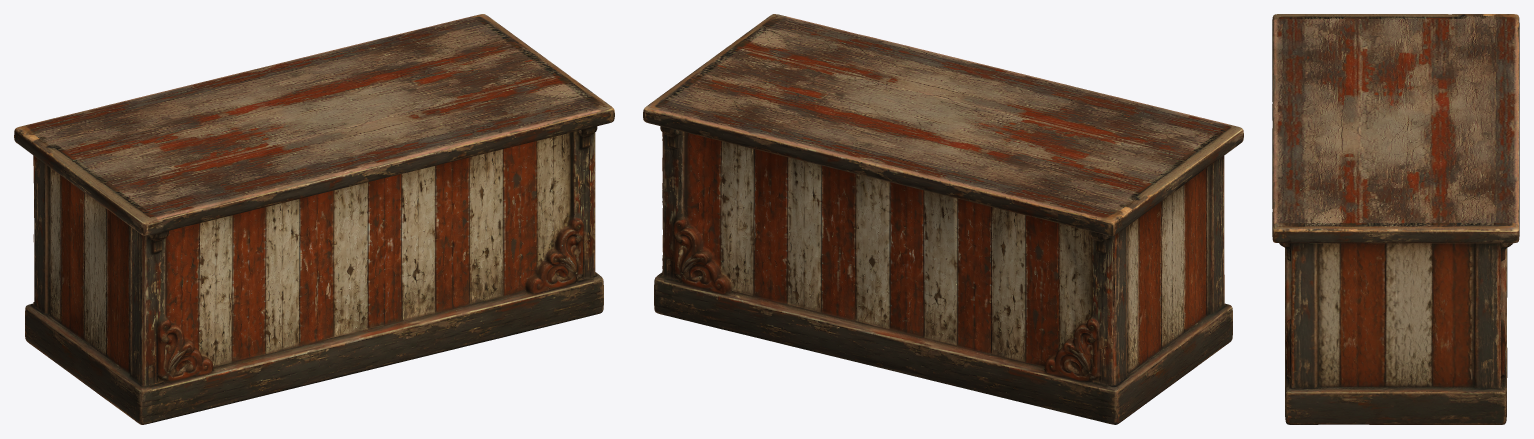
Rendered from Meshy_AI_Weathered_Striped_Woo_0513212344_texture.fbx.
3 renders of one model, left to right at view 1: azimuth 30°, elevation 25°; view 2: azimuth 150°, elevation 25°; view 3: azimuth 270°, elevation 25°, orthographic. The views are drawn at different scales.
Parts seen in each view (by area): view 1: Mesh_0; view 2: Mesh_0; view 3: Mesh_0.
Part boxes in pixels (x1,y1,x2,y2): Mesh_0: [14, 14, 614, 424]; Mesh_0: [643, 14, 1243, 424]; Mesh_0: [1272, 14, 1519, 424].
Bounding box in the file's own units: 191 × 81.56 × 91.9.
1 material, 1 textured.
